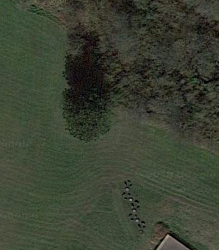tree: (55, 88, 117, 148)
